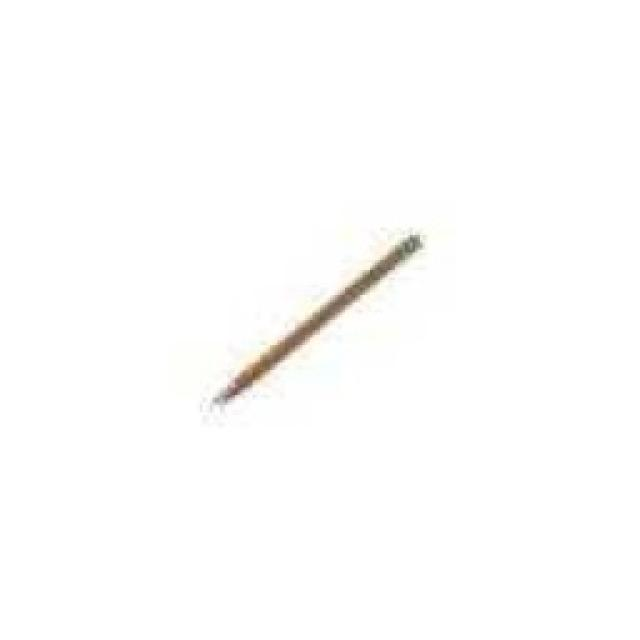pencil: (198, 222, 430, 420)
